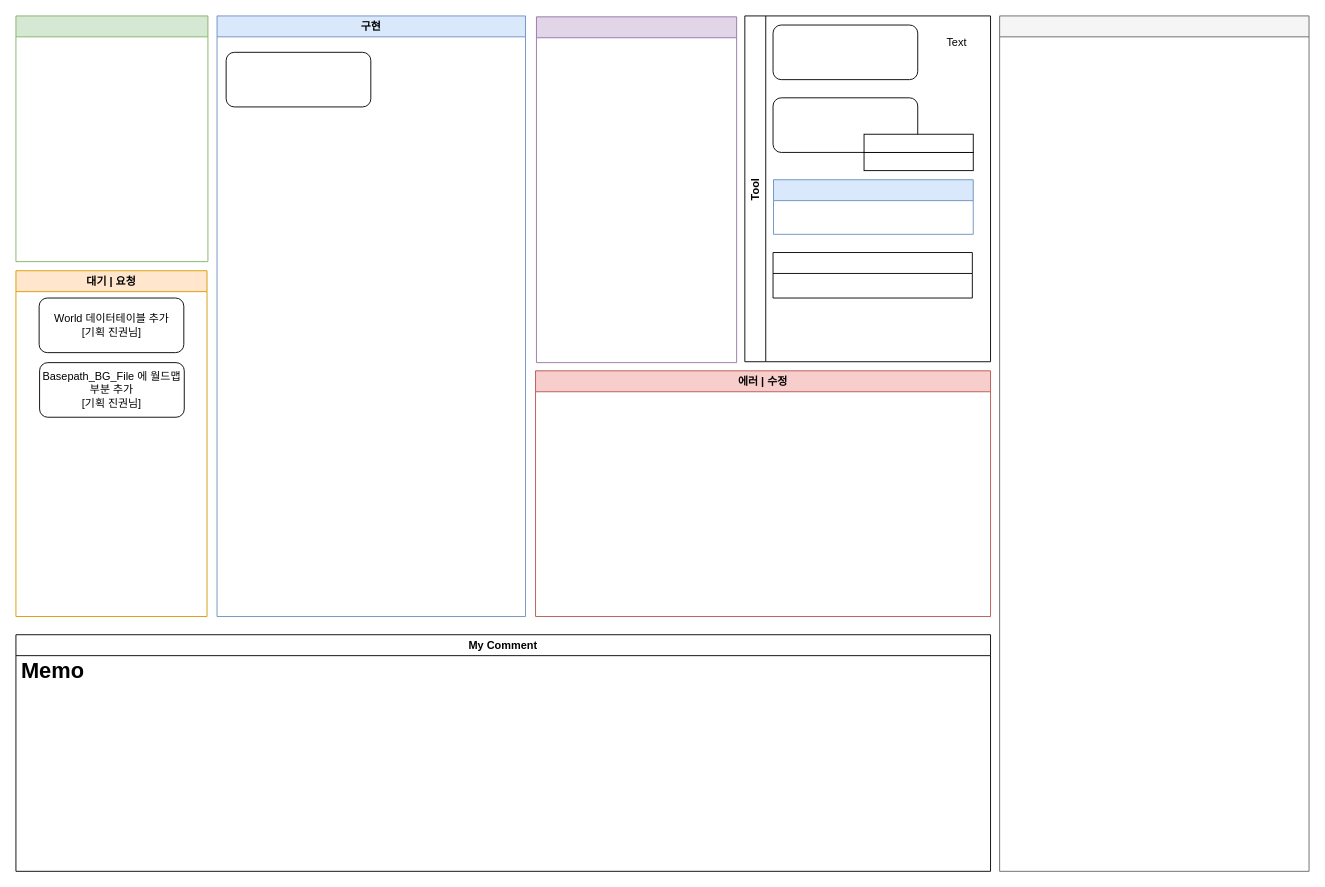
Some shapes in this 1325 by 887 pixel diagram are drawn without their labels. The shapes that lost their labels are listed below. From the top down, each one's centre as x and y in pixels, then its label:
(298,79): 월드맵 씬 입장 임시
(111,138): 분석 | 논의
(636,189): 고려
(1154,443): 폐기 | 완료
